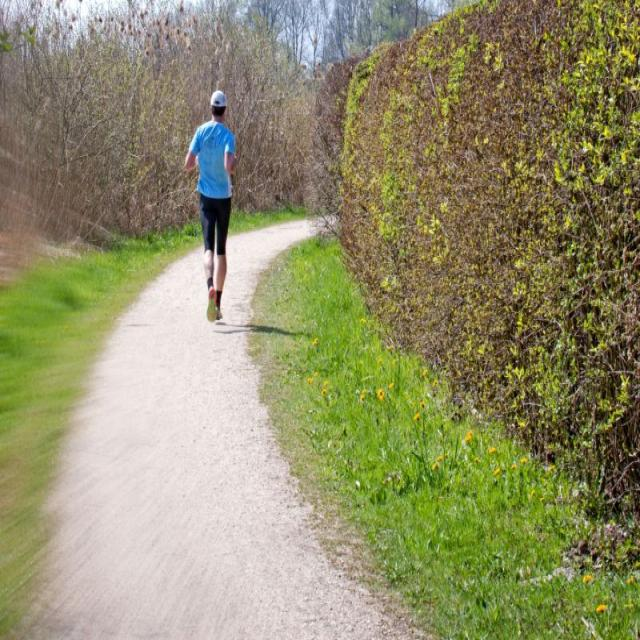running: (183, 88, 240, 324)
